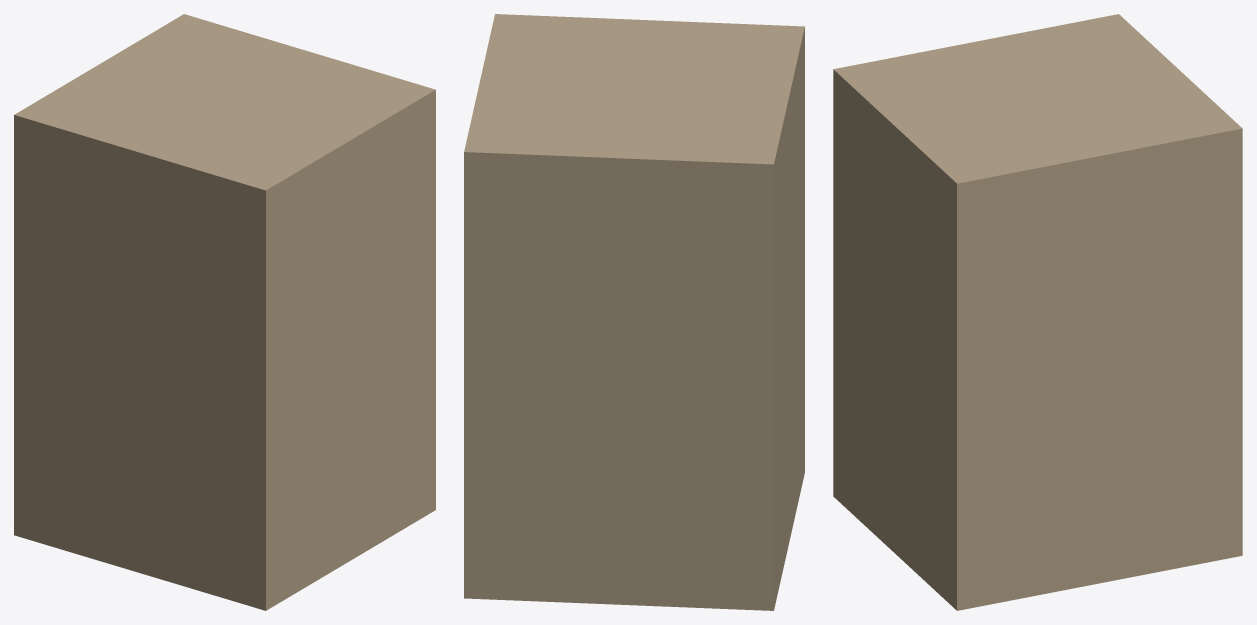
Rendered from bld_393484294.dae.
The picture shows the model from 3 angles, left to right: view 1: azimuth 30°, elevation 25°; view 2: azimuth 150°, elevation 25°; view 3: azimuth 270°, elevation 25°; orthographic projection. The views are drawn at different scales.
Parts seen in each view (by area): view 1: bld_393484294; view 2: bld_393484294; view 3: bld_393484294.
Part boxes in pixels (x1,y1,x2,y2): bld_393484294: (14, 14, 435, 610); bld_393484294: (464, 14, 804, 610); bld_393484294: (833, 14, 1242, 610).
Size of the model in its own units: 6.81 by 6.95 by 8.
